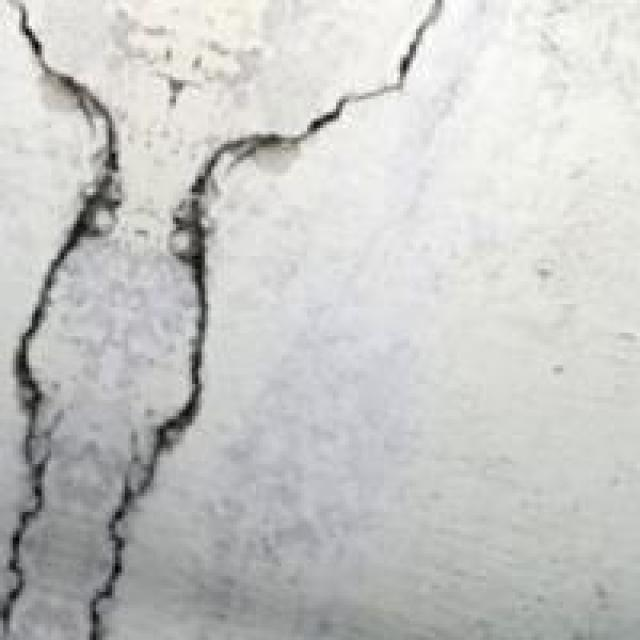crack: (3, 0, 442, 637)
